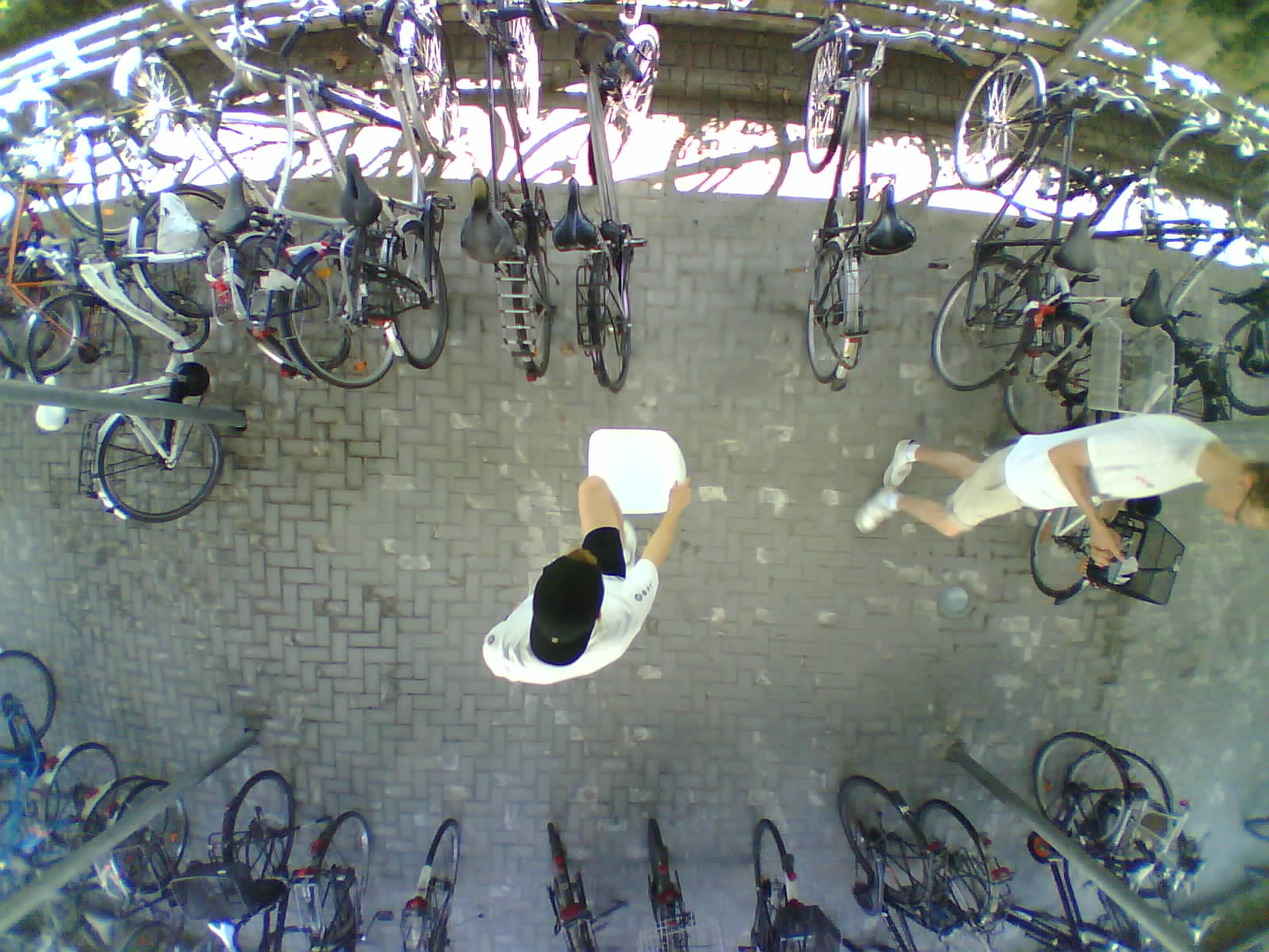bicylce: (160, 108, 353, 369), (254, 71, 414, 385), (944, 39, 1088, 382), (94, 179, 228, 522), (784, 0, 899, 390), (559, 20, 675, 390), (1005, 145, 1147, 435), (472, 0, 563, 387), (15, 118, 133, 396), (1099, 216, 1249, 420), (1066, 754, 1201, 952), (383, 0, 452, 375), (1032, 738, 1138, 952)
saddle: (456, 165, 519, 262), (857, 182, 920, 255), (144, 189, 207, 258), (552, 171, 601, 255), (1053, 210, 1102, 274), (338, 155, 384, 223), (211, 171, 256, 235), (1126, 264, 1170, 327), (30, 377, 73, 425), (1237, 321, 1269, 384), (203, 917, 251, 952), (1184, 910, 1225, 947), (79, 911, 118, 946), (1122, 860, 1157, 895)
